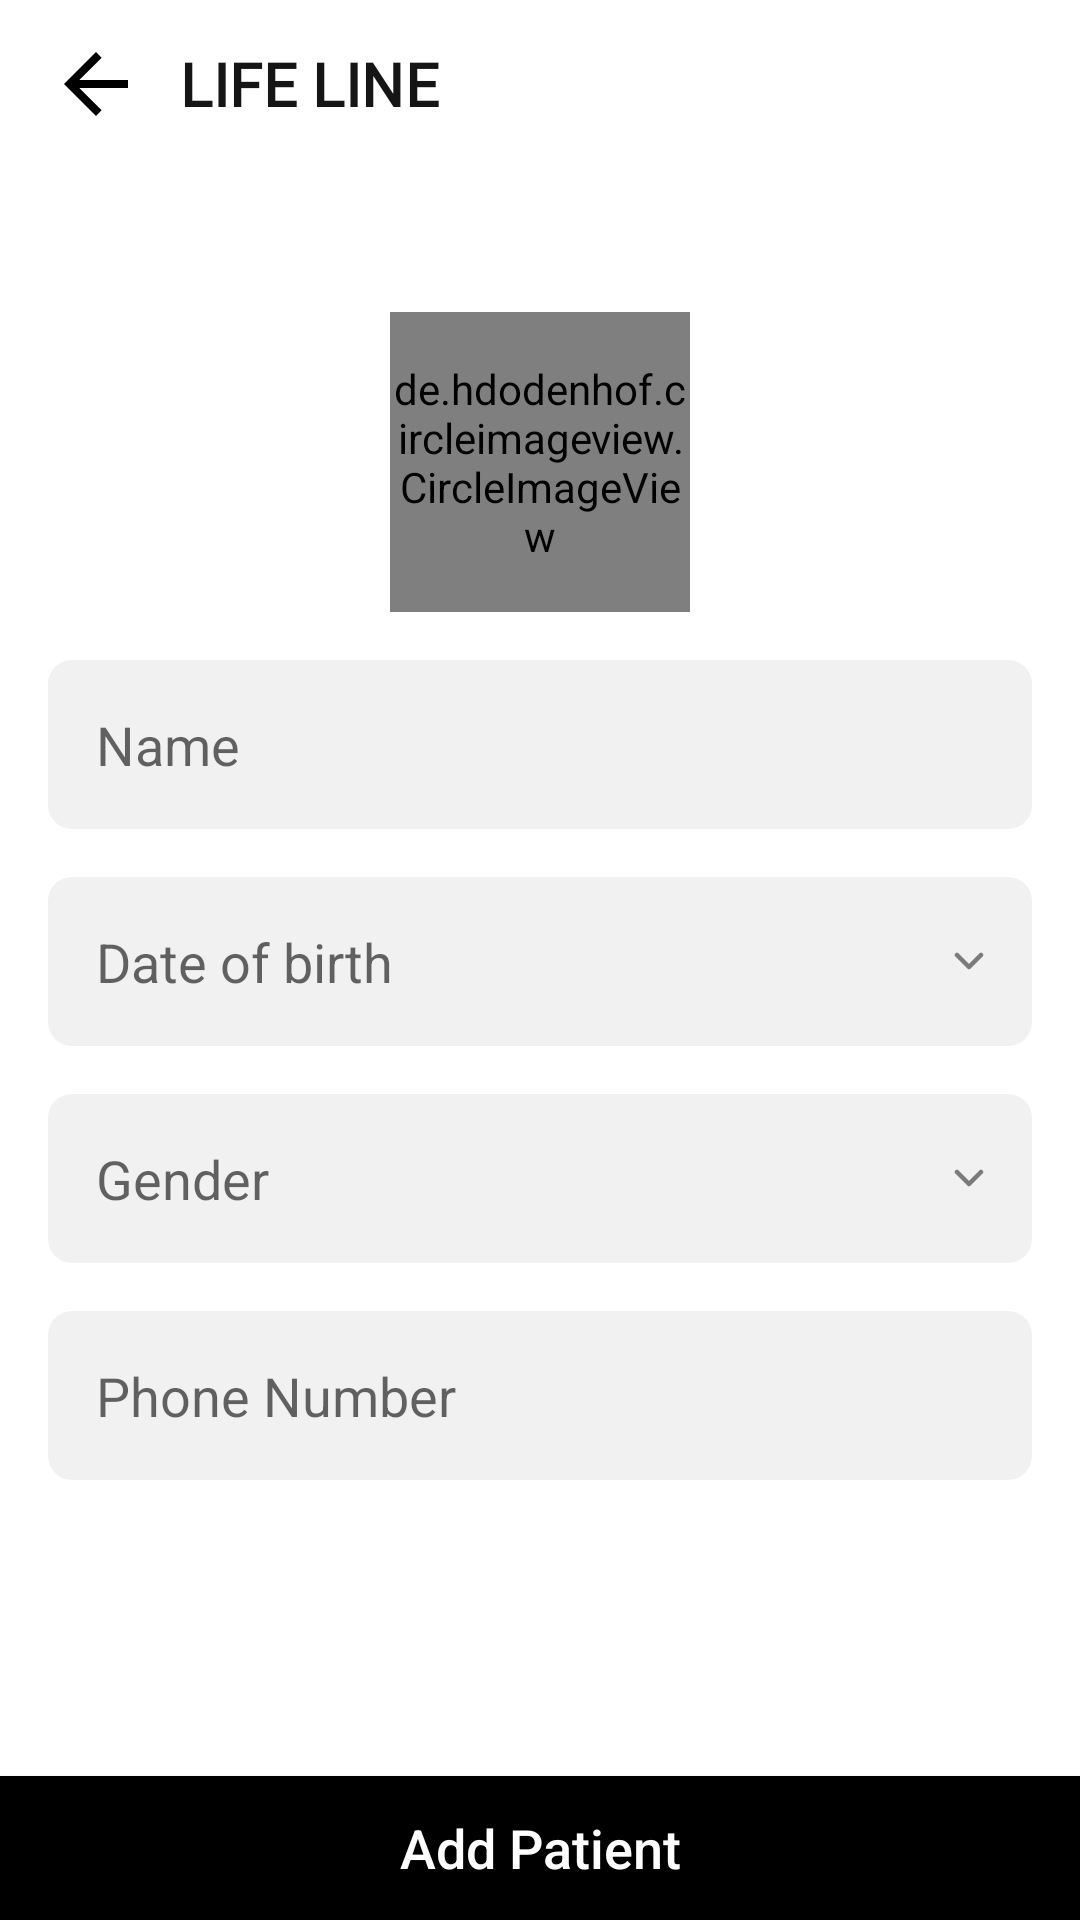

Icon bounding boxes for this 1080w x 1920h phone screenshot, format bbox(x1, y1, x2, y2):
arrow back: bbox(64, 52, 128, 116)
